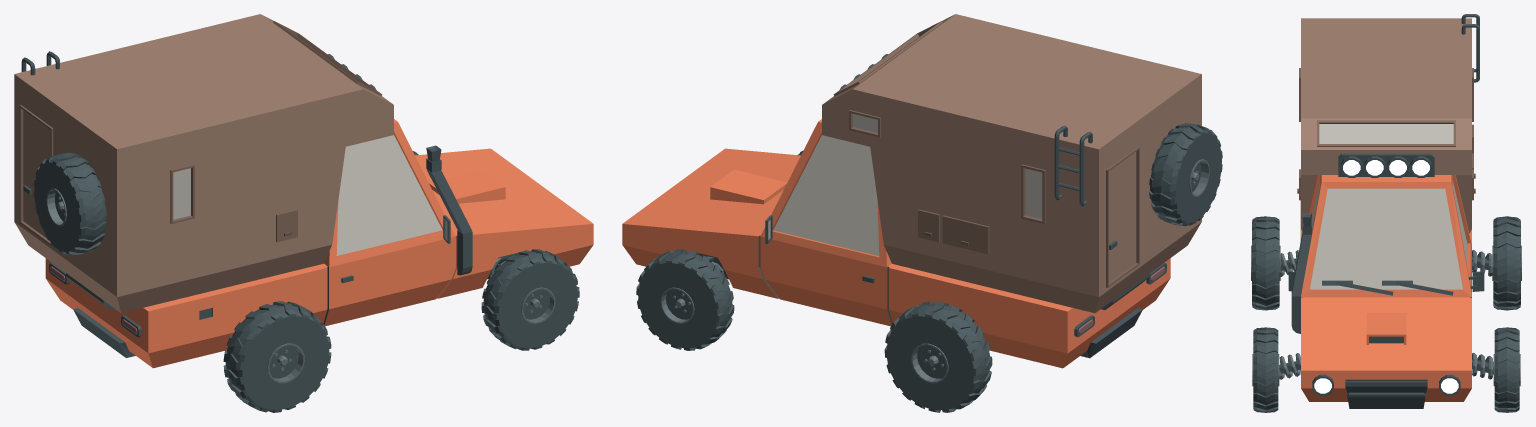
The model's file is npc_vehicles_lite.glb.
3 views of the same model, side by side, from view 1: azimuth 30°, elevation 25°; view 2: azimuth 150°, elevation 25°; view 3: azimuth 270°, elevation 25° (orthographic). The views are drawn at different scales.
Parts seen in each view (by area): view 1: truck_drifter; view 2: truck_drifter; view 3: truck_drifter.
Boxes of the visible parts, <box> form: truck_drifter: <box>14,14,593,412</box>; truck_drifter: <box>622,14,1222,412</box>; truck_drifter: <box>1251,14,1521,412</box>.
Size of the model in its own units: 575 by 310 by 316.
